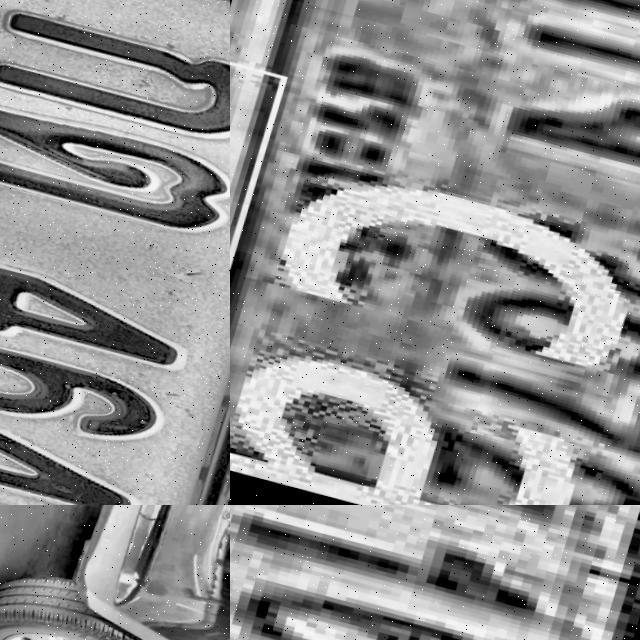license-plate: (230, 0, 640, 505), (0, 0, 230, 505), (230, 505, 640, 640)
